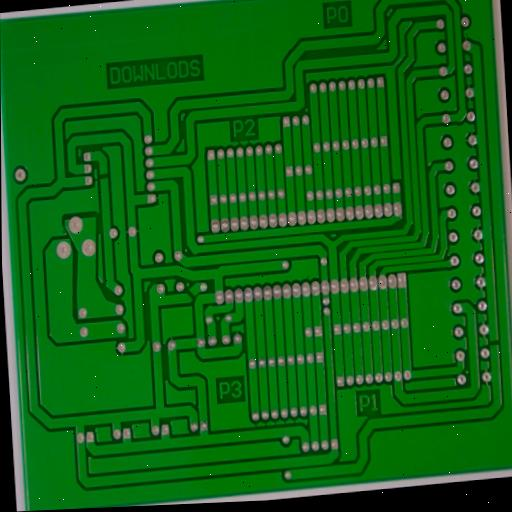open_circuit: (184, 287, 199, 304), (487, 337, 500, 350), (98, 169, 110, 182)
